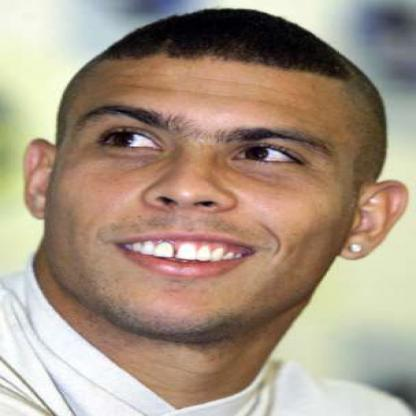face: (46, 9, 371, 343)
